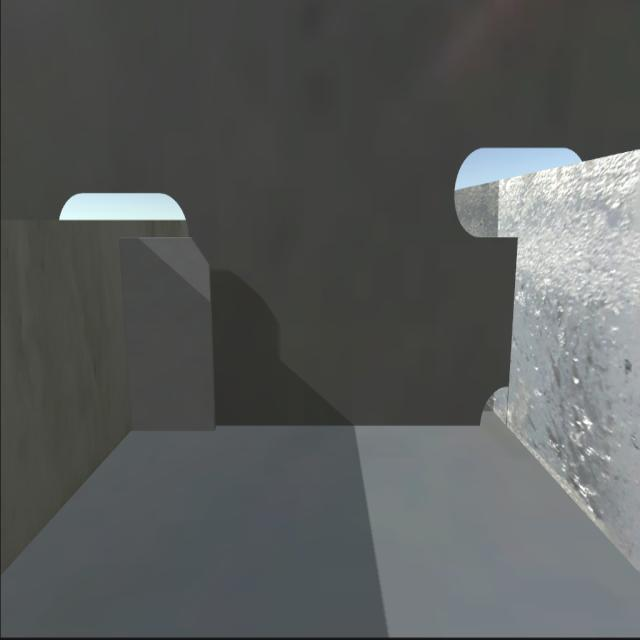fillet_hole: (471, 374, 512, 424)
fillet_yong_jeop_jang: (131, 413, 481, 446)
longi_yong_jeop_jang: (115, 240, 144, 430), (499, 235, 522, 386)
plate_CP03: (124, 239, 218, 429)
